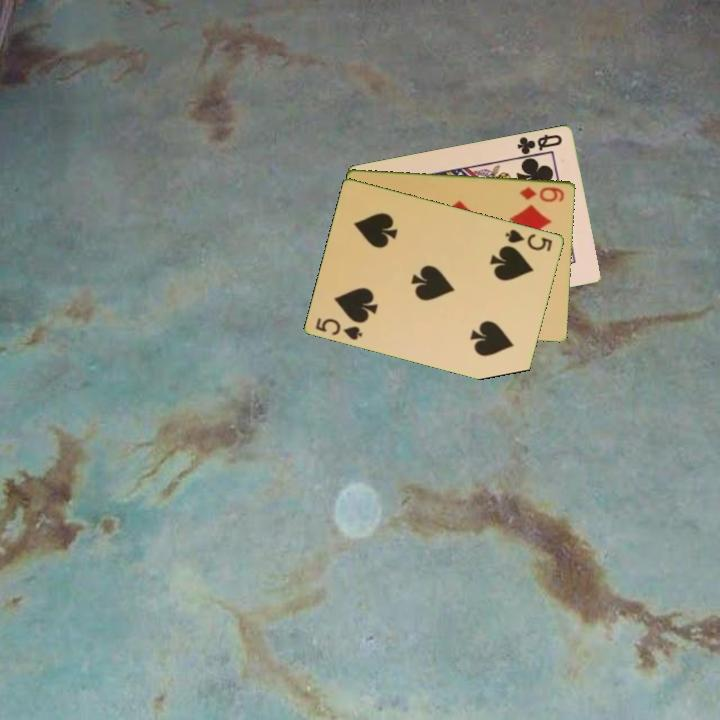5s: (312, 314, 366, 343), (502, 225, 555, 254)
6d: (516, 183, 567, 204)
Qc: (514, 130, 565, 159)
